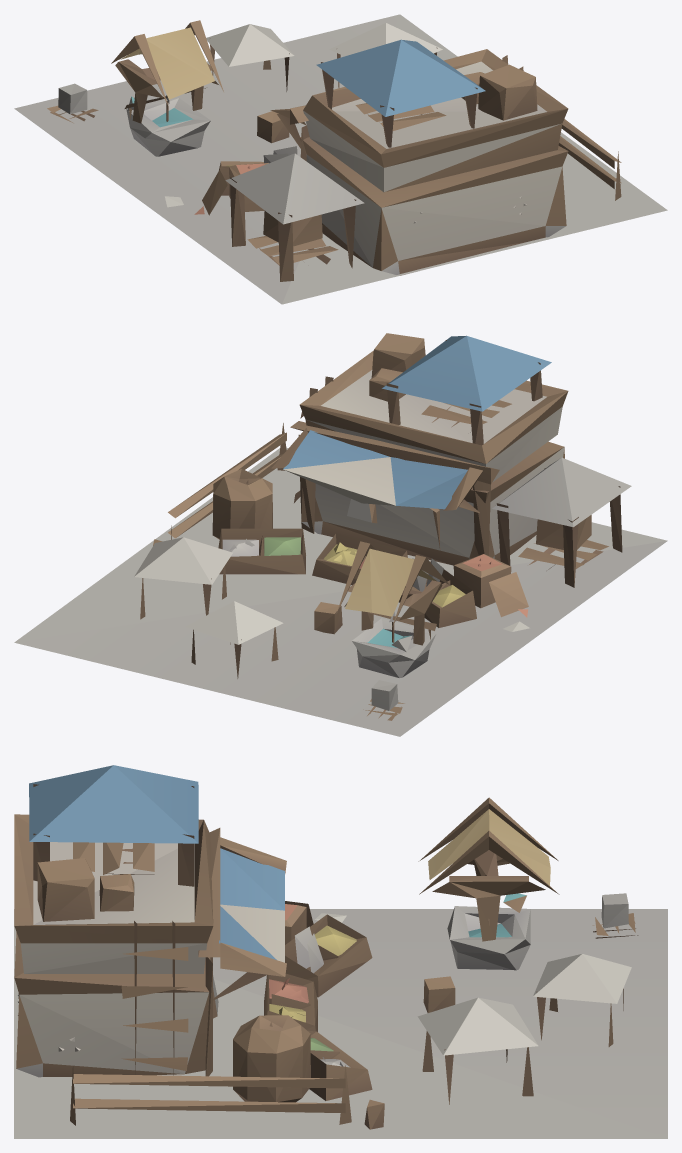
File: market_small.l1.lite.glb
The picture shows the model from 3 angles, top to bottom: view 1: azimuth 30°, elevation 25°; view 2: azimuth 150°, elevation 25°; view 3: azimuth 270°, elevation 25°; orthographic projection. The views are drawn at different scales.
Parts seen in each view (by area): view 1: market_small; view 2: market_small; view 3: market_small.
Boxes of the visible parts, x1,y1,x2,y2 form: market_small: (14,14,667,304); market_small: (14,333,667,736); market_small: (14,765,667,1138).
Size of the model in its own units: 4.96 by 2.44 by 5.96.
